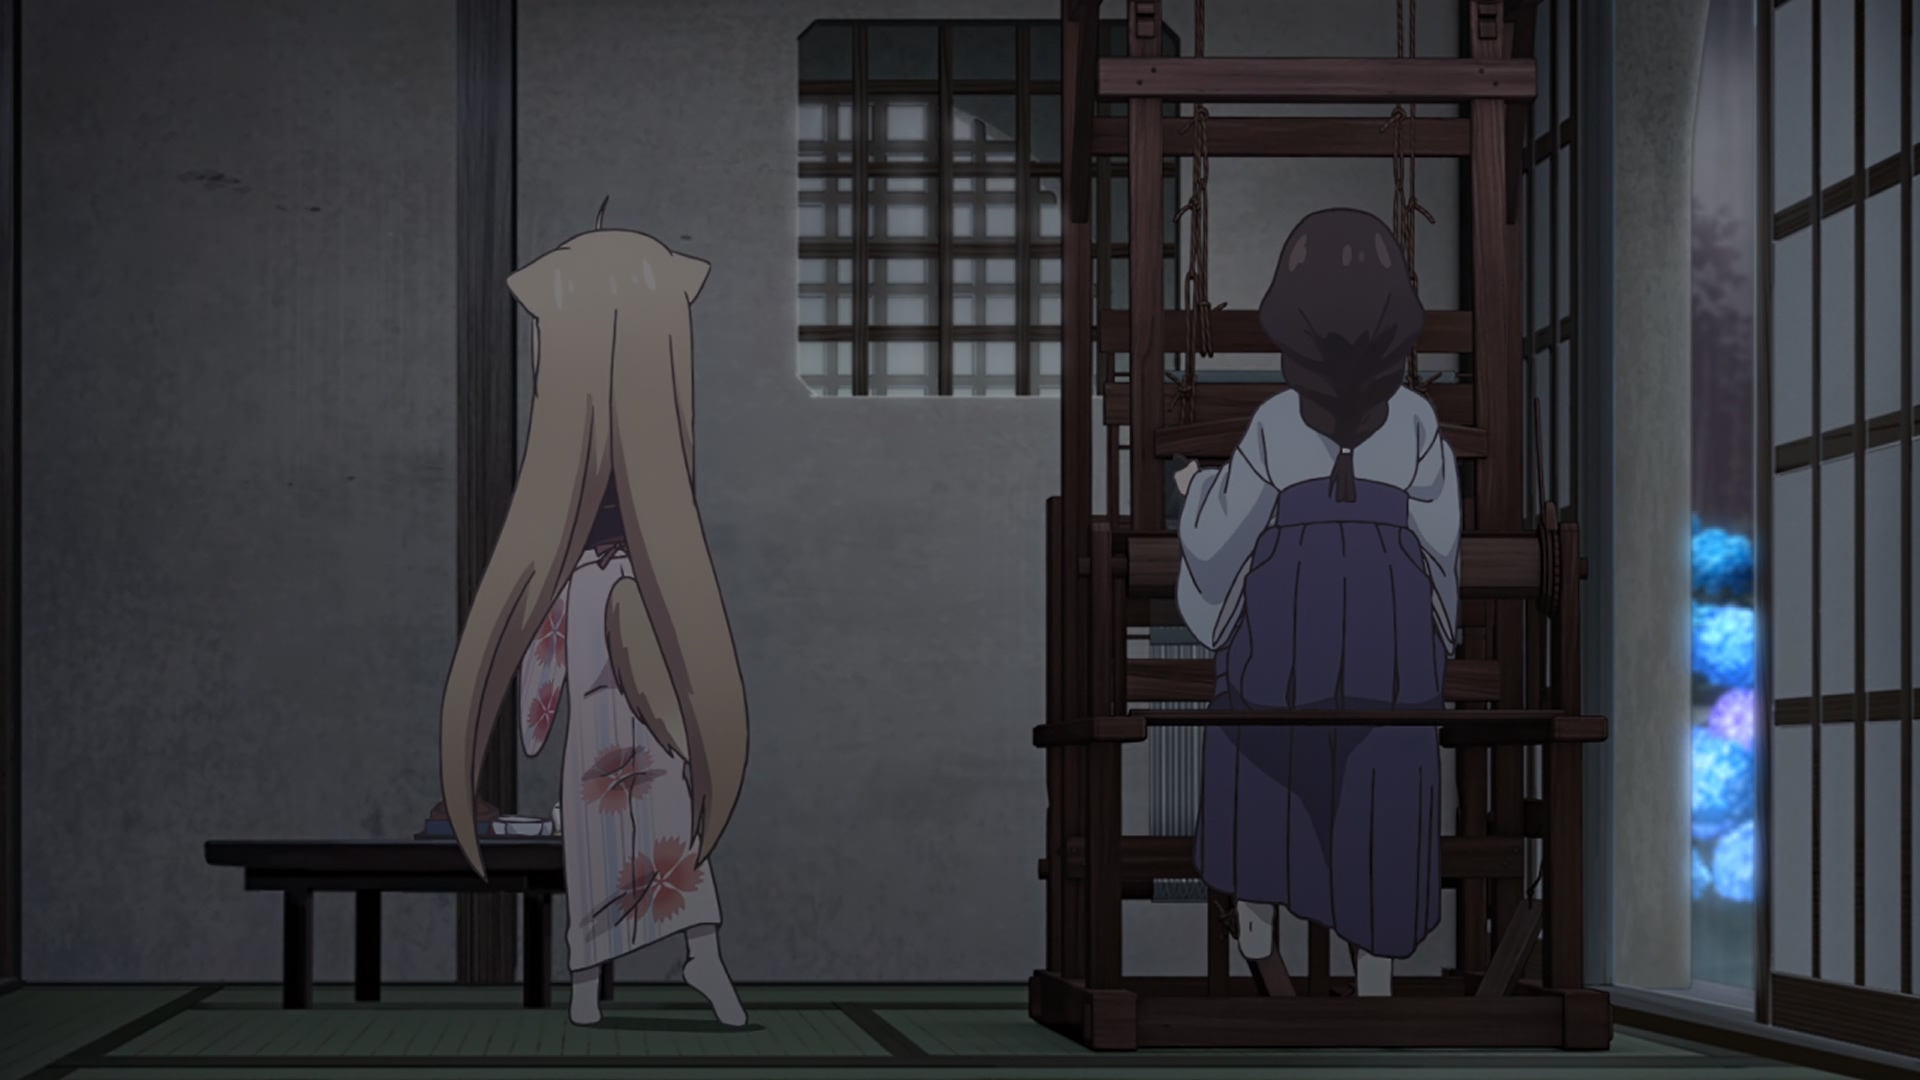其他: (1174, 211, 1458, 996)
柚: (440, 195, 753, 1029)
